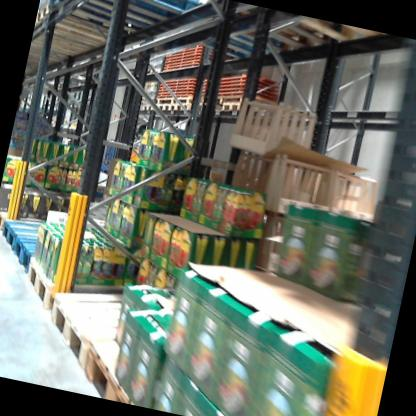pallet: (38, 267, 158, 398), (17, 249, 126, 331), (78, 336, 171, 409), (56, 0, 209, 38), (35, 0, 140, 47), (42, 0, 145, 42), (0, 217, 72, 264), (7, 227, 66, 276), (0, 200, 61, 243), (217, 93, 276, 126), (172, 98, 200, 118), (133, 98, 154, 116), (162, 96, 175, 114), (151, 101, 164, 115)
